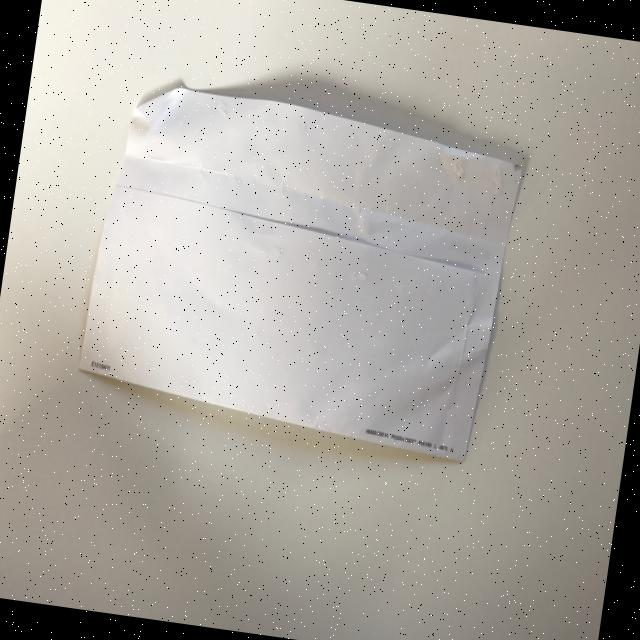paper: (72, 77, 528, 466)
